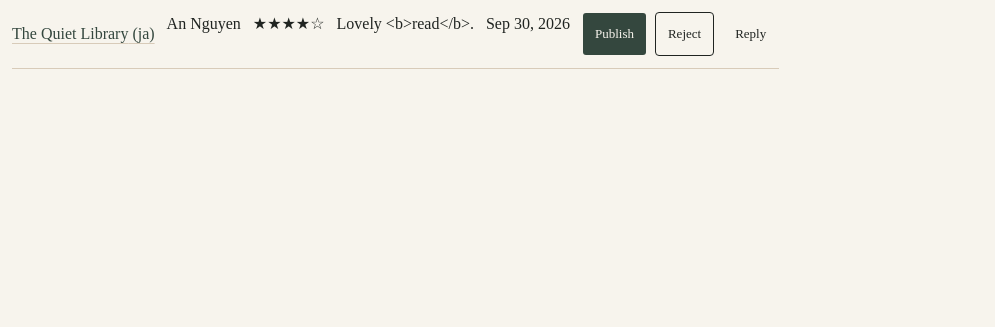
Test: tells the admin the reviewer will be emailed, under the reply field
Click the button "Reply".
click(751, 34)  # box [722,12,779,56]
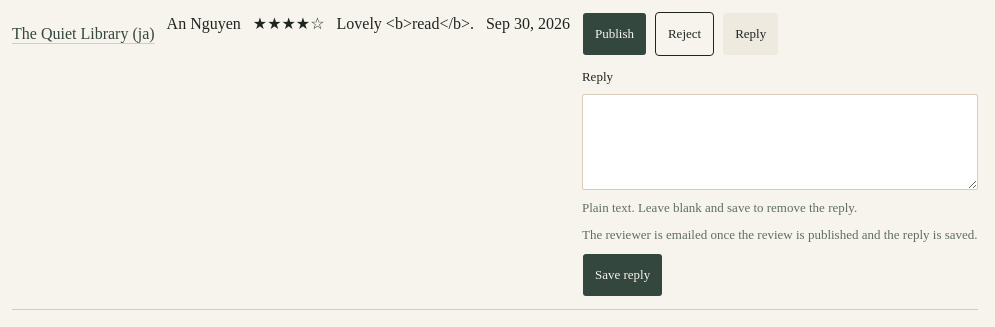
Expected: the text "The reviewer is emailed once the review is published and the reply is saved." is shown, [582,225,978,245]
